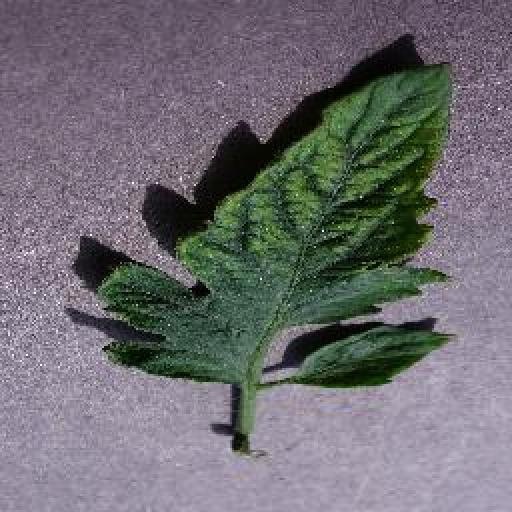disease_tomato: (90, 58, 458, 392)
